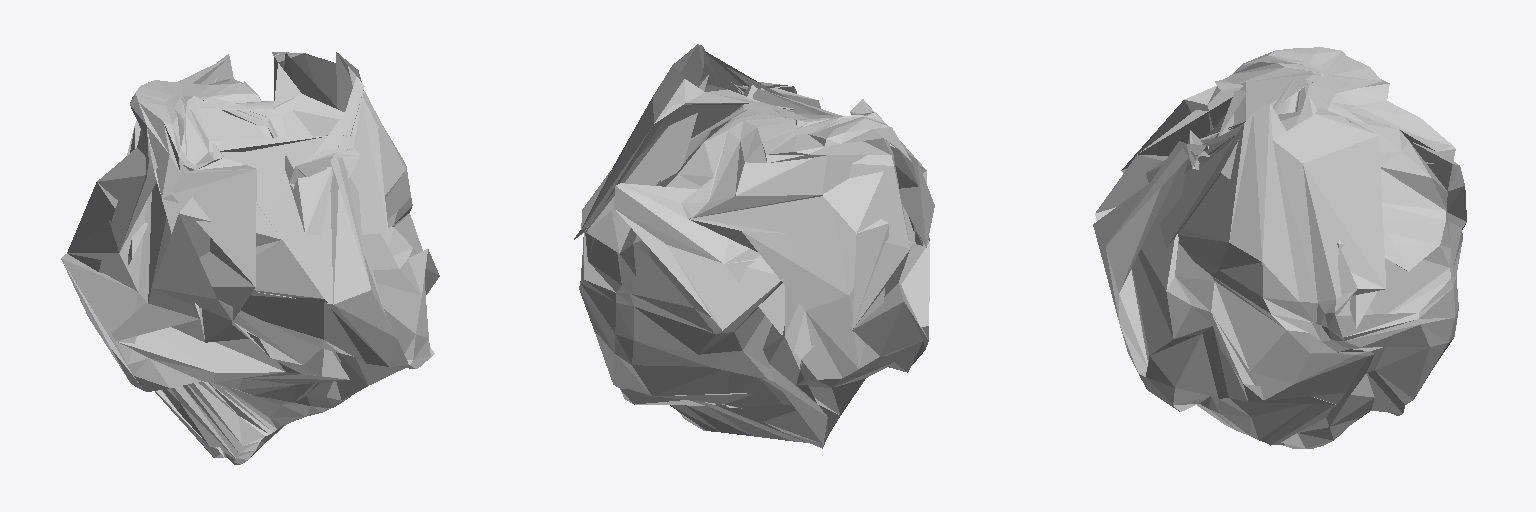
The model's file is corrugated_paper.obj.
3 views of the same model, side by side, from view 1: azimuth 30°, elevation 25°; view 2: azimuth 150°, elevation 25°; view 3: azimuth 270°, elevation 25° (orthographic).
Parts seen in each view (by area): view 1: Sphere; view 2: Sphere; view 3: Sphere.
Part boxes in pixels (left/top/right/bottom): Sphere: left=61, top=52, right=439, bottom=464; Sphere: left=574, top=44, right=934, bottom=448; Sphere: left=1093, top=47, right=1466, bottom=448.
Bounding box in the file's own units: 3.31 × 3.63 × 3.24.